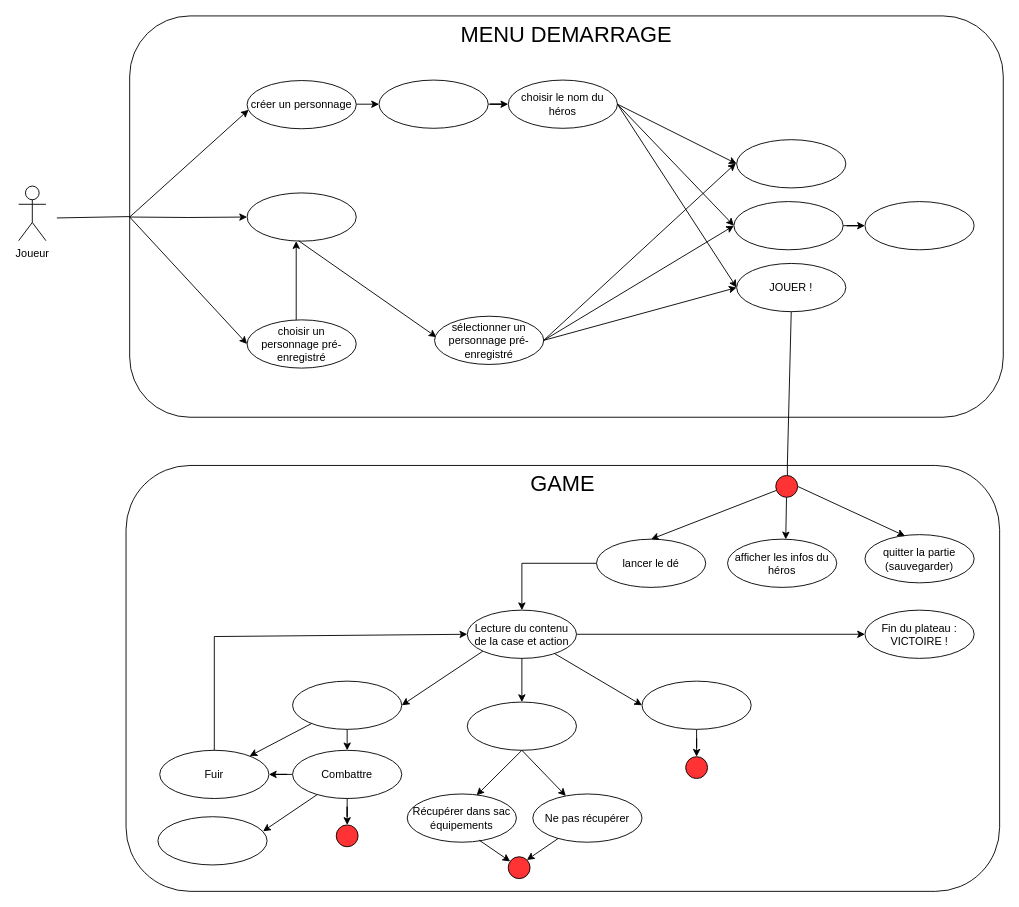
The diagram is 1019 pixels wide and 907 high, and some of its shapes have lost their labels. The centre of each missing label's shape, as x and y in pixels:
"afficher le personnage" belongs at point 791,163.
"afficher les personnages pré-enregistrés" belongs at point 301,216.
"Autres cases" belongs at point 696,704.
"Case Equipement compatible :" belongs at point 521,725.
"Case Monstre :" belongs at point 347,704.
"choisir le type de héros" belongs at point 433,103.
"DEFAITE !" belongs at point 212,840.
"modifier le nom du héros" belongs at point 919,225.
"modifier le personnage" belongs at point 788,225.
